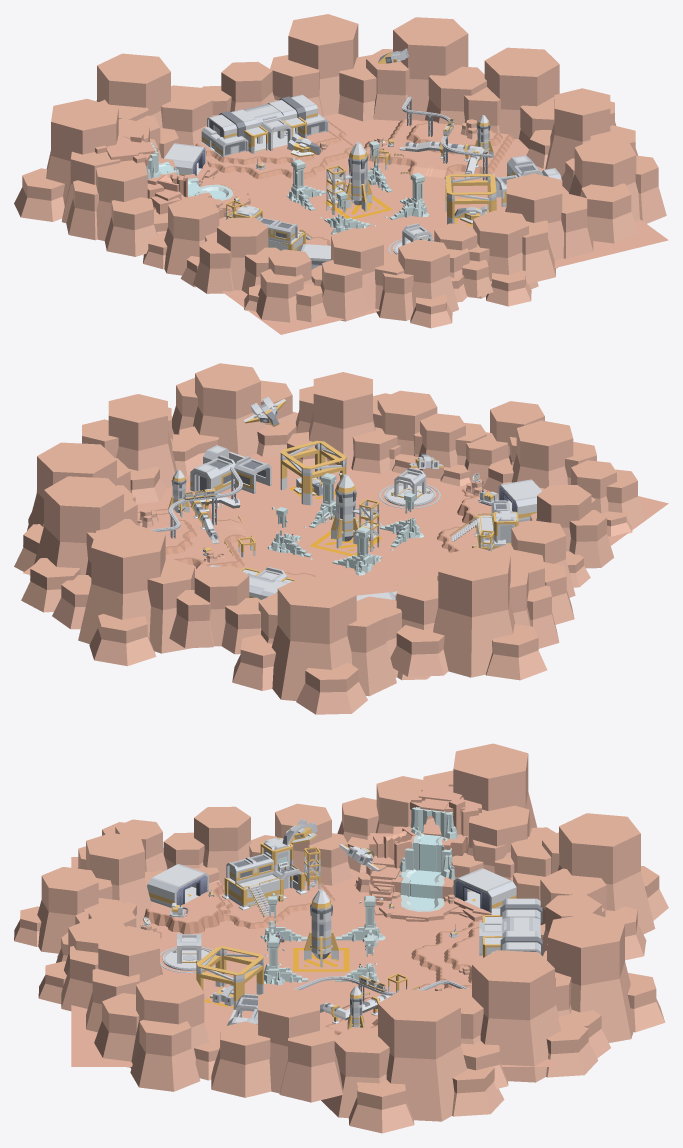
The model's file is finalMap4.glb.
The picture shows the model from 3 angles, top to bottom: view 1: azimuth 30°, elevation 25°; view 2: azimuth 150°, elevation 25°; view 3: azimuth 270°, elevation 25°; orthographic projection. The views are drawn at different scales.
Parts seen in each view (by area): view 1: terrain.1724, rock_largeA.023, rock_largeA.022, rock_largeA.013, rock_largeA.017, rock_largeA.012, rock_largeA.021, rock_largeA.019, rock_largeA.003, rock_largeA.005, rock_largeA.002, rock_largeA.020 (+19 smaller); view 2: terrain.1724, rock_largeA.019, rock_largeA.013, rock_largeA.022, rock_largeA.017, rock_largeA.023, rock_largeA.020, rock_largeA.003, rock_largeA.009, rock_largeA.002, rock_largeA.021, rock_largeA.004 (+14 smaller); view 3: rock_largeA.021, terrain.1724, rock_largeA.023, rock_largeA.020, rock_largeA.017, rock_largeA.022, rock_largeA.019, rock_largeA.013, rock_largeA.003, rock_largeA.005, rock_largeA.006, rock_largeA.002 (+21 smaller).
Part boxes in pixels (x1=…): terrain.1724: x1=213, y1=113, x2=668, y2=334; rock_largeA.023: x1=366, y1=17, x2=486, y2=124; rock_largeA.022: x1=270, y1=14, x2=376, y2=121; rock_largeA.013: x1=14, y1=99, x2=149, y2=222; rock_largeA.017: x1=569, y1=138, x2=666, y2=243; rock_largeA.012: x1=66, y1=160, x2=167, y2=256; rock_largeA.021: x1=464, y1=47, x2=559, y2=149; rock_largeA.019: x1=96, y1=53, x2=212, y2=145; rock_largeA.003: x1=505, y1=173, x2=593, y2=283; rock_largeA.005: x1=376, y1=239, x2=468, y2=328; rock_largeA.002: x1=311, y1=228, x2=404, y2=321; rock_largeA.020: x1=526, y1=88, x2=637, y2=192; terrain.1724: x1=23, y1=412, x2=668, y2=595; rock_largeA.019: x1=232, y1=576, x2=396, y2=714; rock_largeA.013: x1=390, y1=547, x2=547, y2=680; rock_largeA.022: x1=52, y1=524, x2=194, y2=666; rock_largeA.017: x1=172, y1=363, x2=296, y2=460; rock_largeA.023: x1=21, y1=476, x2=137, y2=612; rock_largeA.020: x1=82, y1=394, x2=202, y2=503; rock_largeA.003: x1=287, y1=372, x2=401, y2=469; rock_largeA.009: x1=169, y1=566, x2=261, y2=654; rock_largeA.002: x1=483, y1=420, x2=596, y2=493; rock_largeA.021: x1=14, y1=442, x2=135, y2=571; rock_largeA.004: x1=351, y1=390, x2=437, y2=473; rock_largeA.021: x1=321, y1=989, x2=504, y2=1133; terrain.1724: x1=71, y1=857, x2=555, y2=1066; rock_largeA.023: x1=441, y1=950, x2=598, y2=1088; rock_largeA.020: x1=211, y1=987, x2=342, y2=1102; rock_largeA.017: x1=94, y1=974, x2=219, y2=1091; rock_largeA.022: x1=547, y1=913, x2=665, y2=1058; rock_largeA.019: x1=540, y1=813, x2=668, y2=960; rock_largeA.013: x1=421, y1=743, x2=556, y2=857; rock_largeA.003: x1=61, y1=926, x2=162, y2=1032; rock_largeA.005: x1=14, y1=867, x2=125, y2=957; rock_largeA.006: x1=163, y1=806, x2=251, y2=885; rock_largeA.002: x1=78, y1=832, x2=158, y2=928.
Bounding box in the file's own units: 84.21 × 23.51 × 80.75.
Materials: 280 (6 with a texture image).
